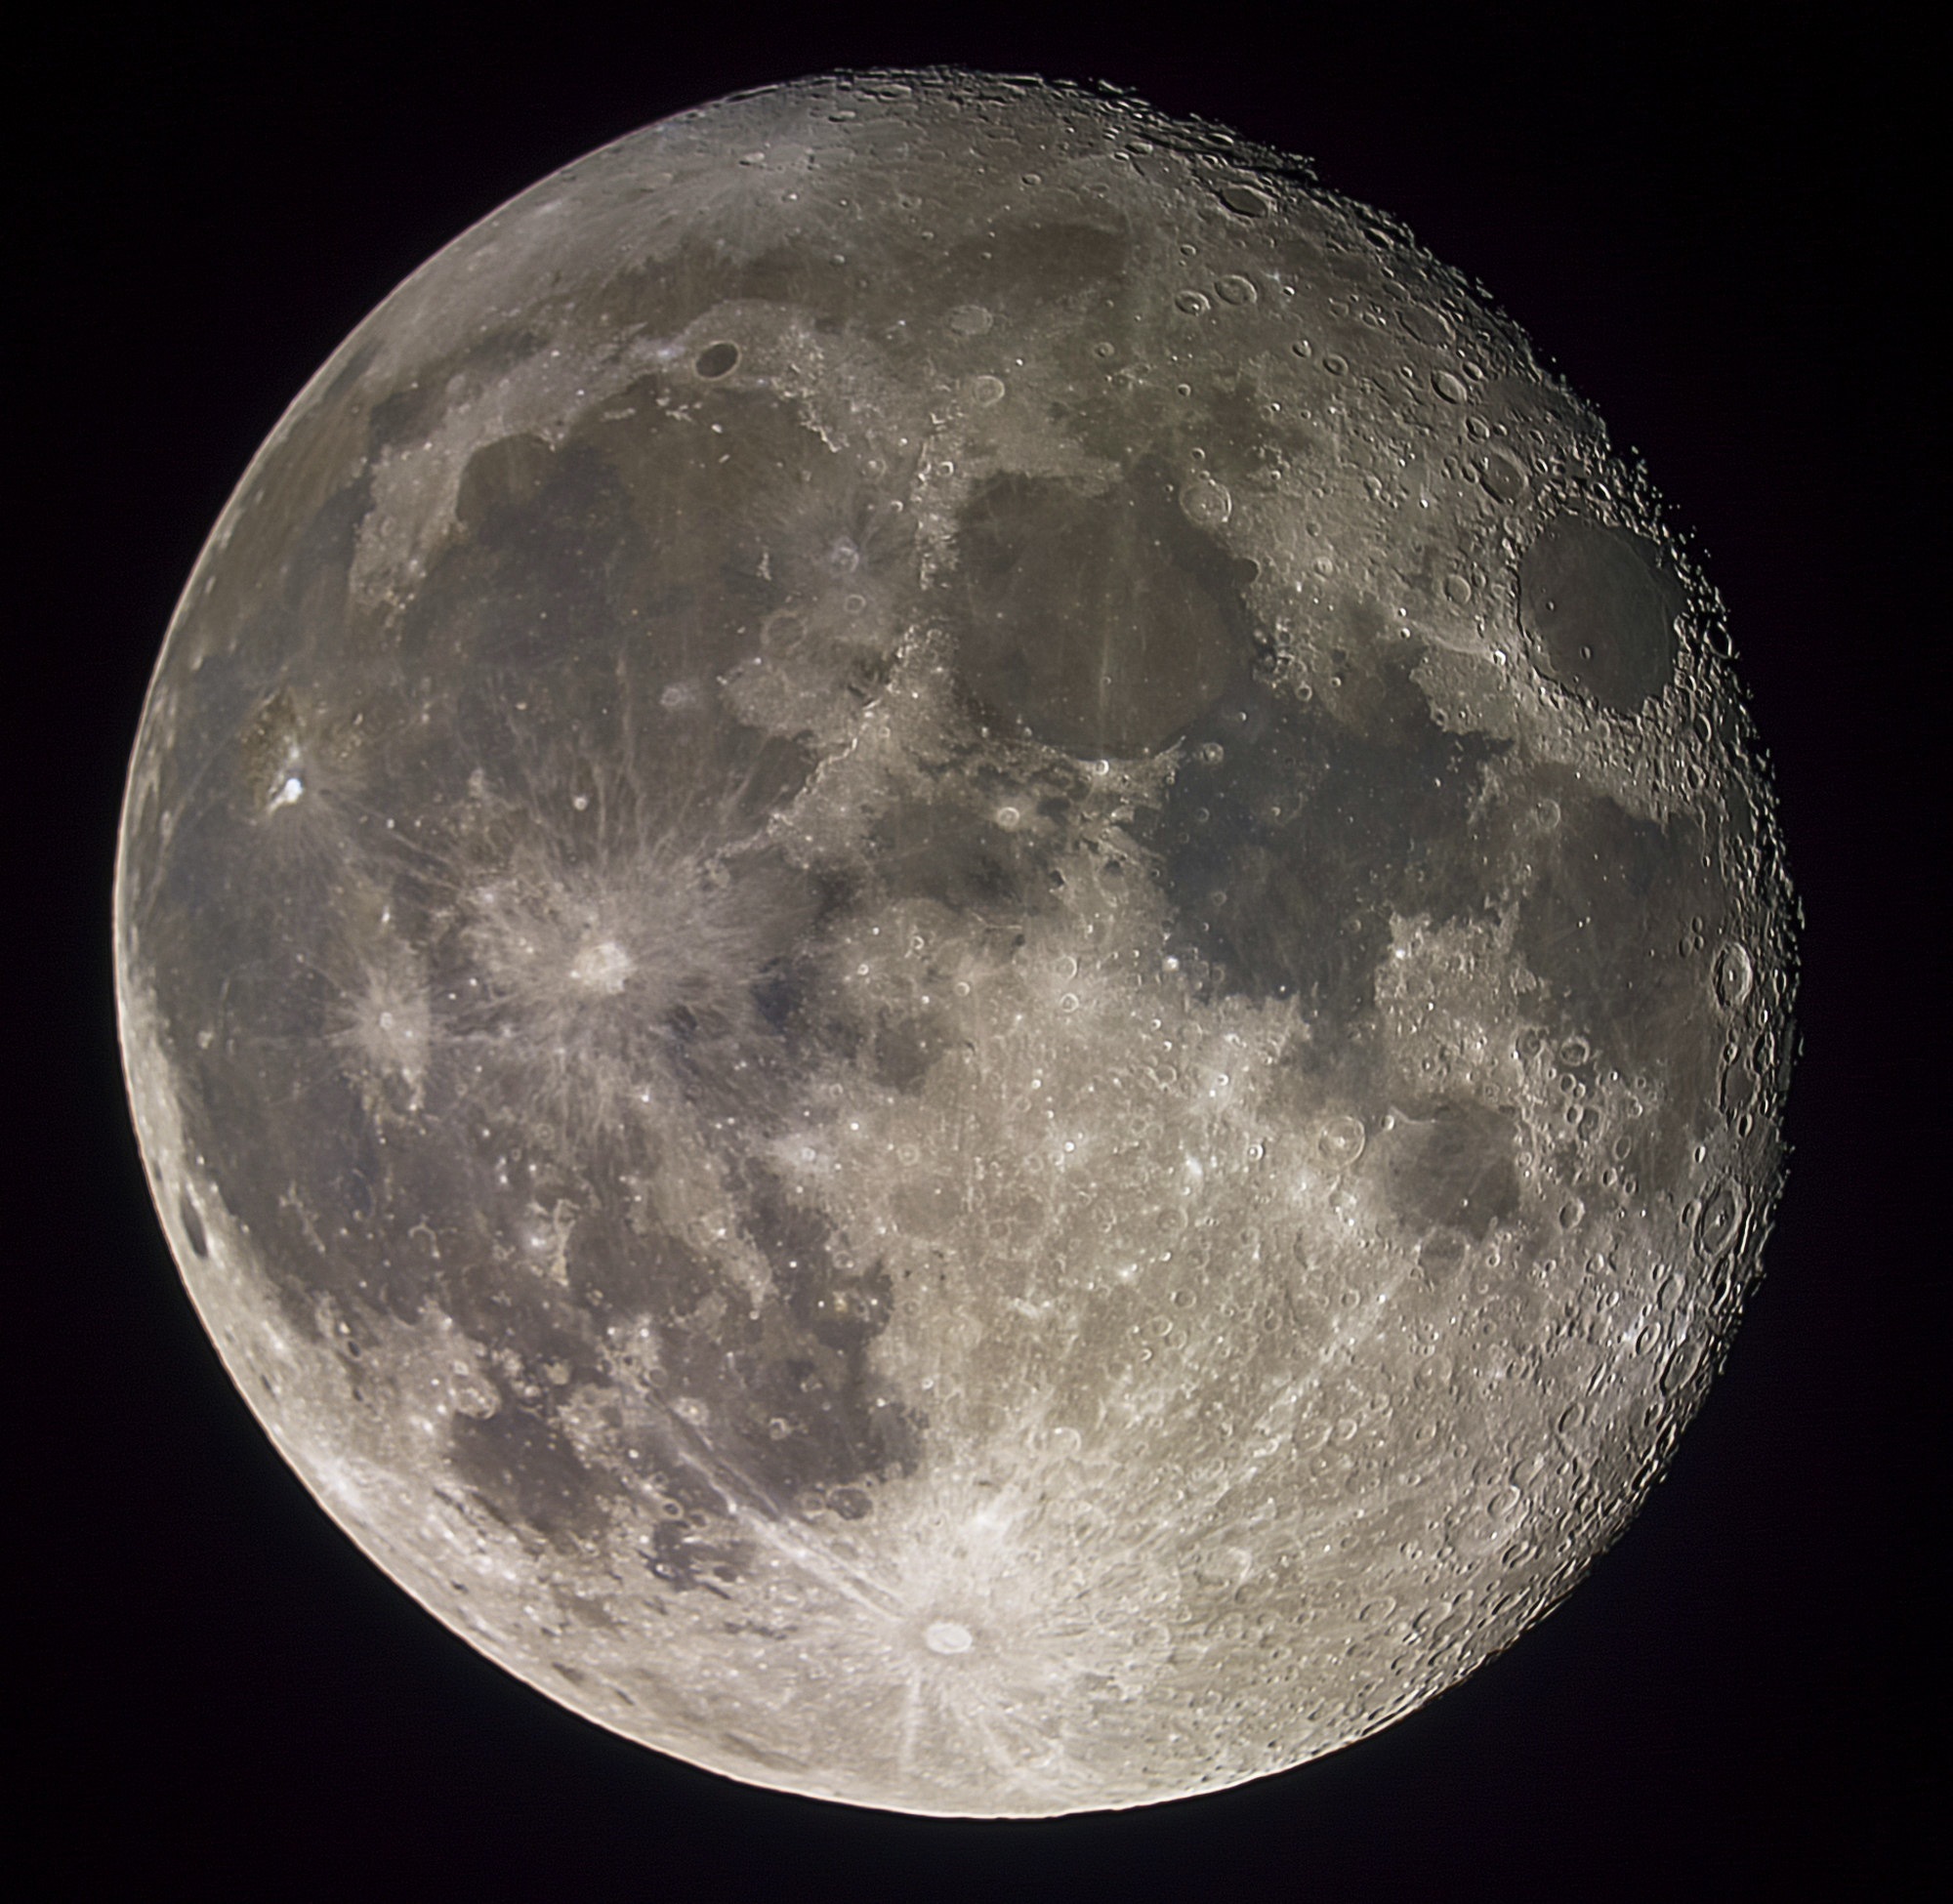crater: (436, 783, 774, 1151), (746, 1499, 1128, 1771), (1453, 500, 1732, 799), (267, 908, 485, 1132), (1662, 907, 1775, 1048), (223, 746, 347, 854), (1182, 167, 1297, 234), (1158, 467, 1252, 546), (678, 330, 776, 401), (959, 781, 1043, 858), (956, 361, 1050, 425), (1304, 1095, 1381, 1170), (1207, 258, 1271, 338), (1531, 1187, 1608, 1250), (722, 139, 790, 185), (413, 361, 478, 406), (832, 586, 884, 636), (1552, 1015, 1597, 1071), (178, 1013, 232, 1058), (1051, 990, 1097, 1030)
